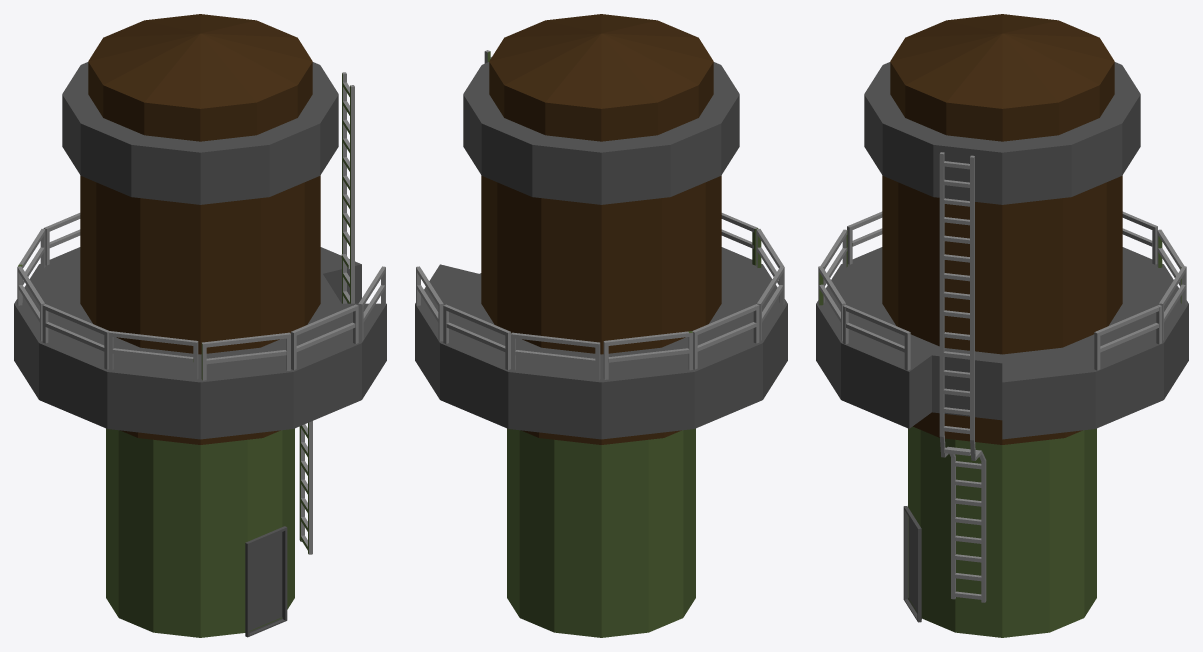
Rendered from водохранопорная башня.fbx.
3 renders of one model, left to right at view 1: azimuth 30°, elevation 25°; view 2: azimuth 150°, elevation 25°; view 3: azimuth 270°, elevation 25°, orthographic.
Visible parts, largest first — view 1: Polygon; view 2: Polygon; view 3: Polygon.
Boxes of the visible parts, x1,y1,x2,y2 form: Polygon: [14, 14, 386, 637]; Polygon: [415, 14, 787, 637]; Polygon: [816, 14, 1188, 637].
Bounding box in the file's own units: 906 × 1521 × 906.
